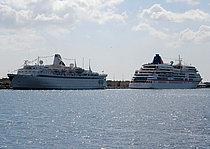Ship: (4, 51, 113, 95), (129, 52, 206, 93)
